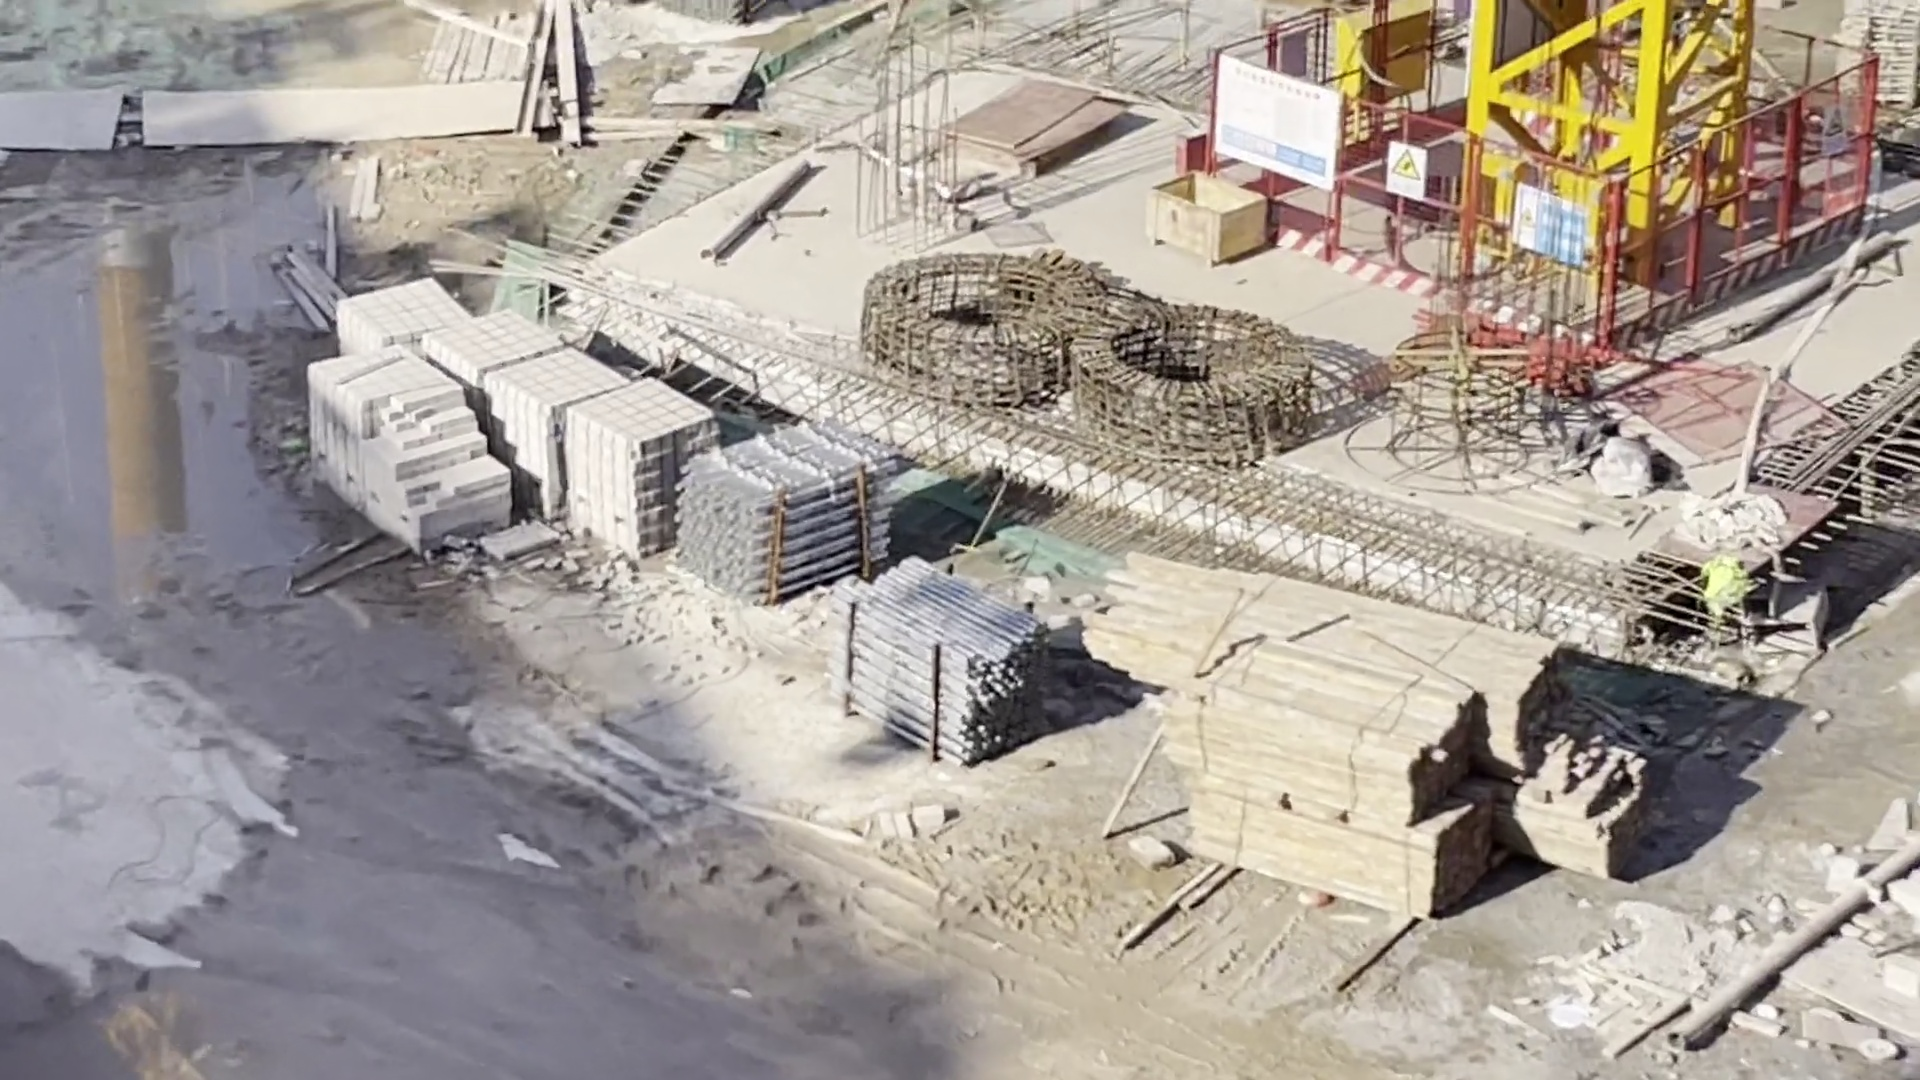board: (932, 69, 1145, 165)
brick: (334, 276, 659, 554)
scaffold: (818, 547, 1036, 778), (694, 444, 865, 585)
wood: (1167, 570, 1668, 909)
